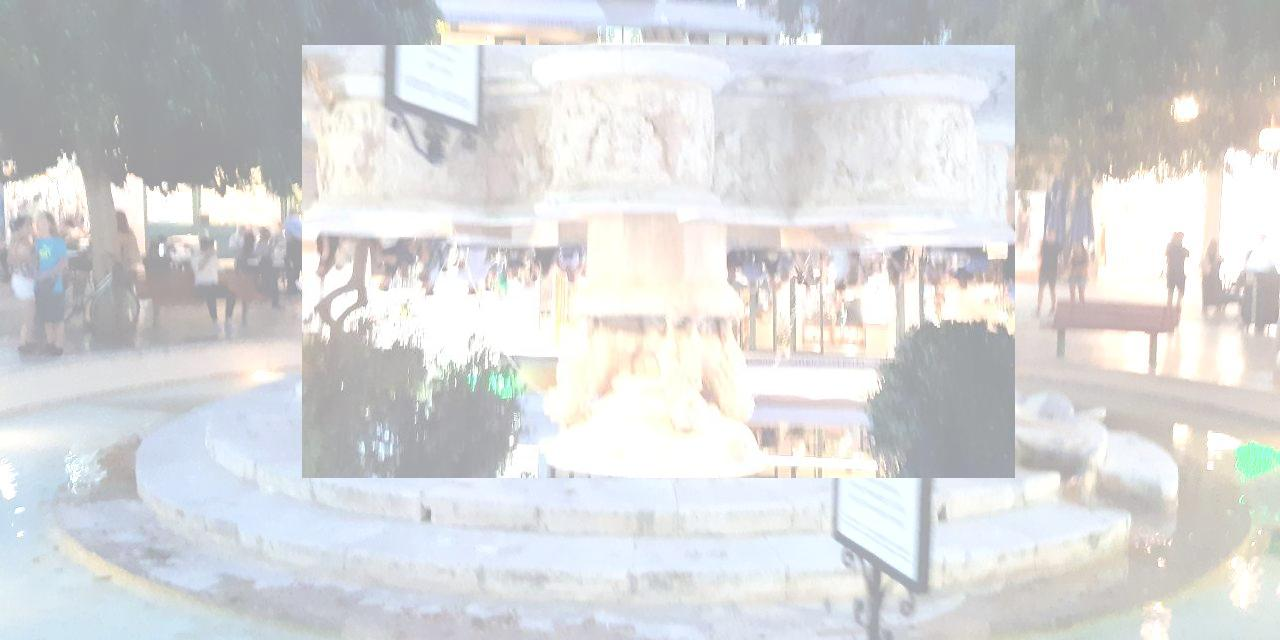Liontaria: (303, 46, 1016, 479)
